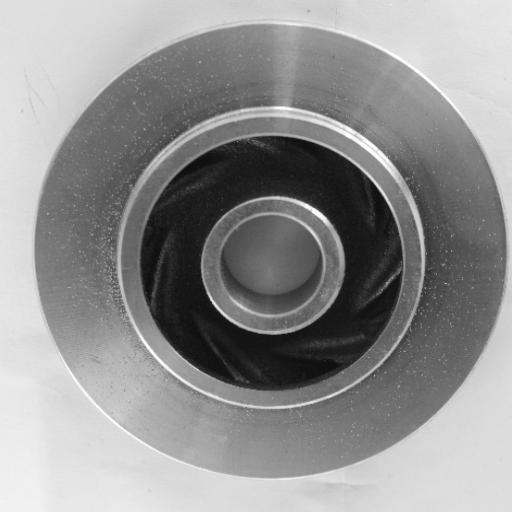polished_casting: (29, 24, 508, 483)
